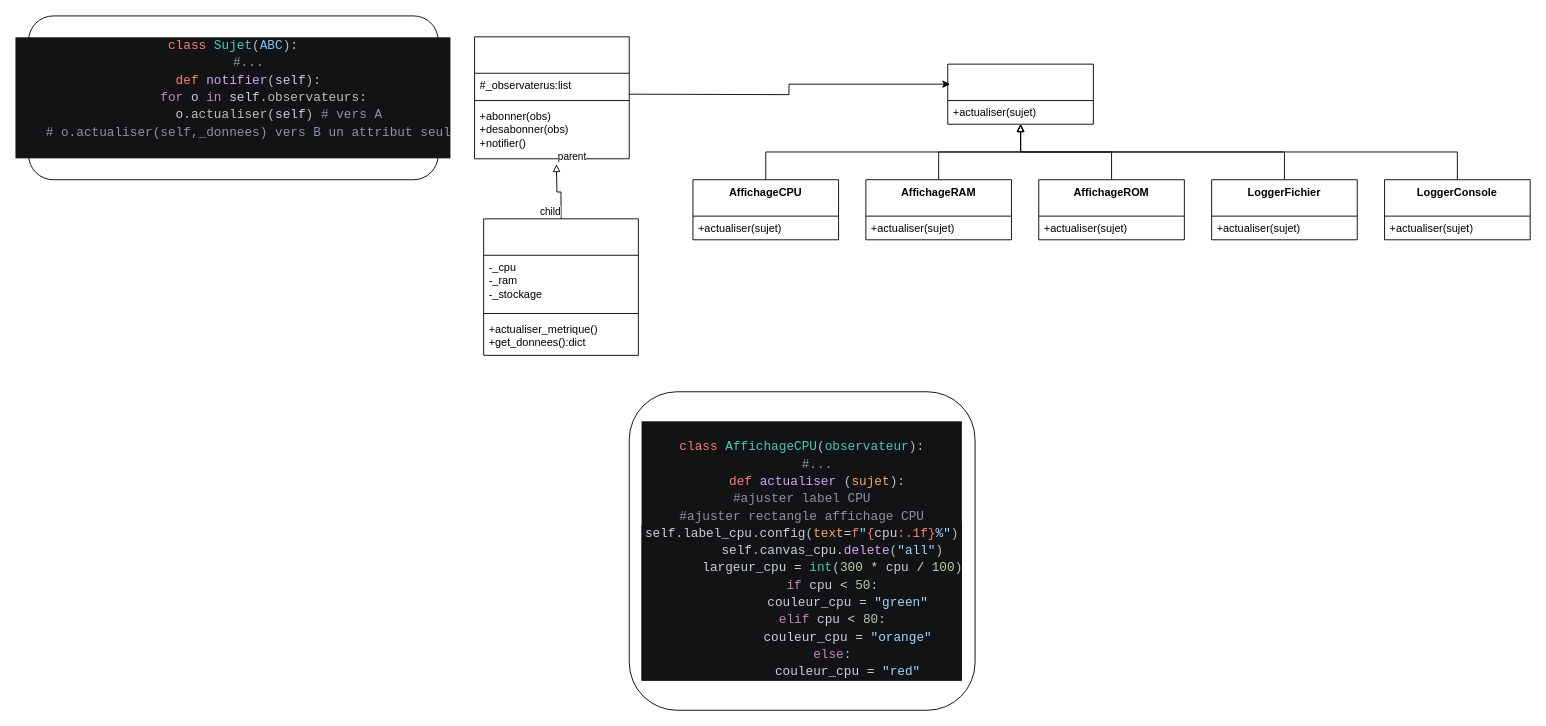
Some shapes in this 1546 by 726 pixel diagram are drawn without their labels. The shapes that lost their labels are listed below. From the top down, each one's box as (x1, y1, x2, y2) in pixels, then its label:
(474, 36, 629, 159): "Interface" Sujet
(947, 63, 1093, 124): "Interface" Observateur
(483, 218, 638, 355): MétriqueSystème
